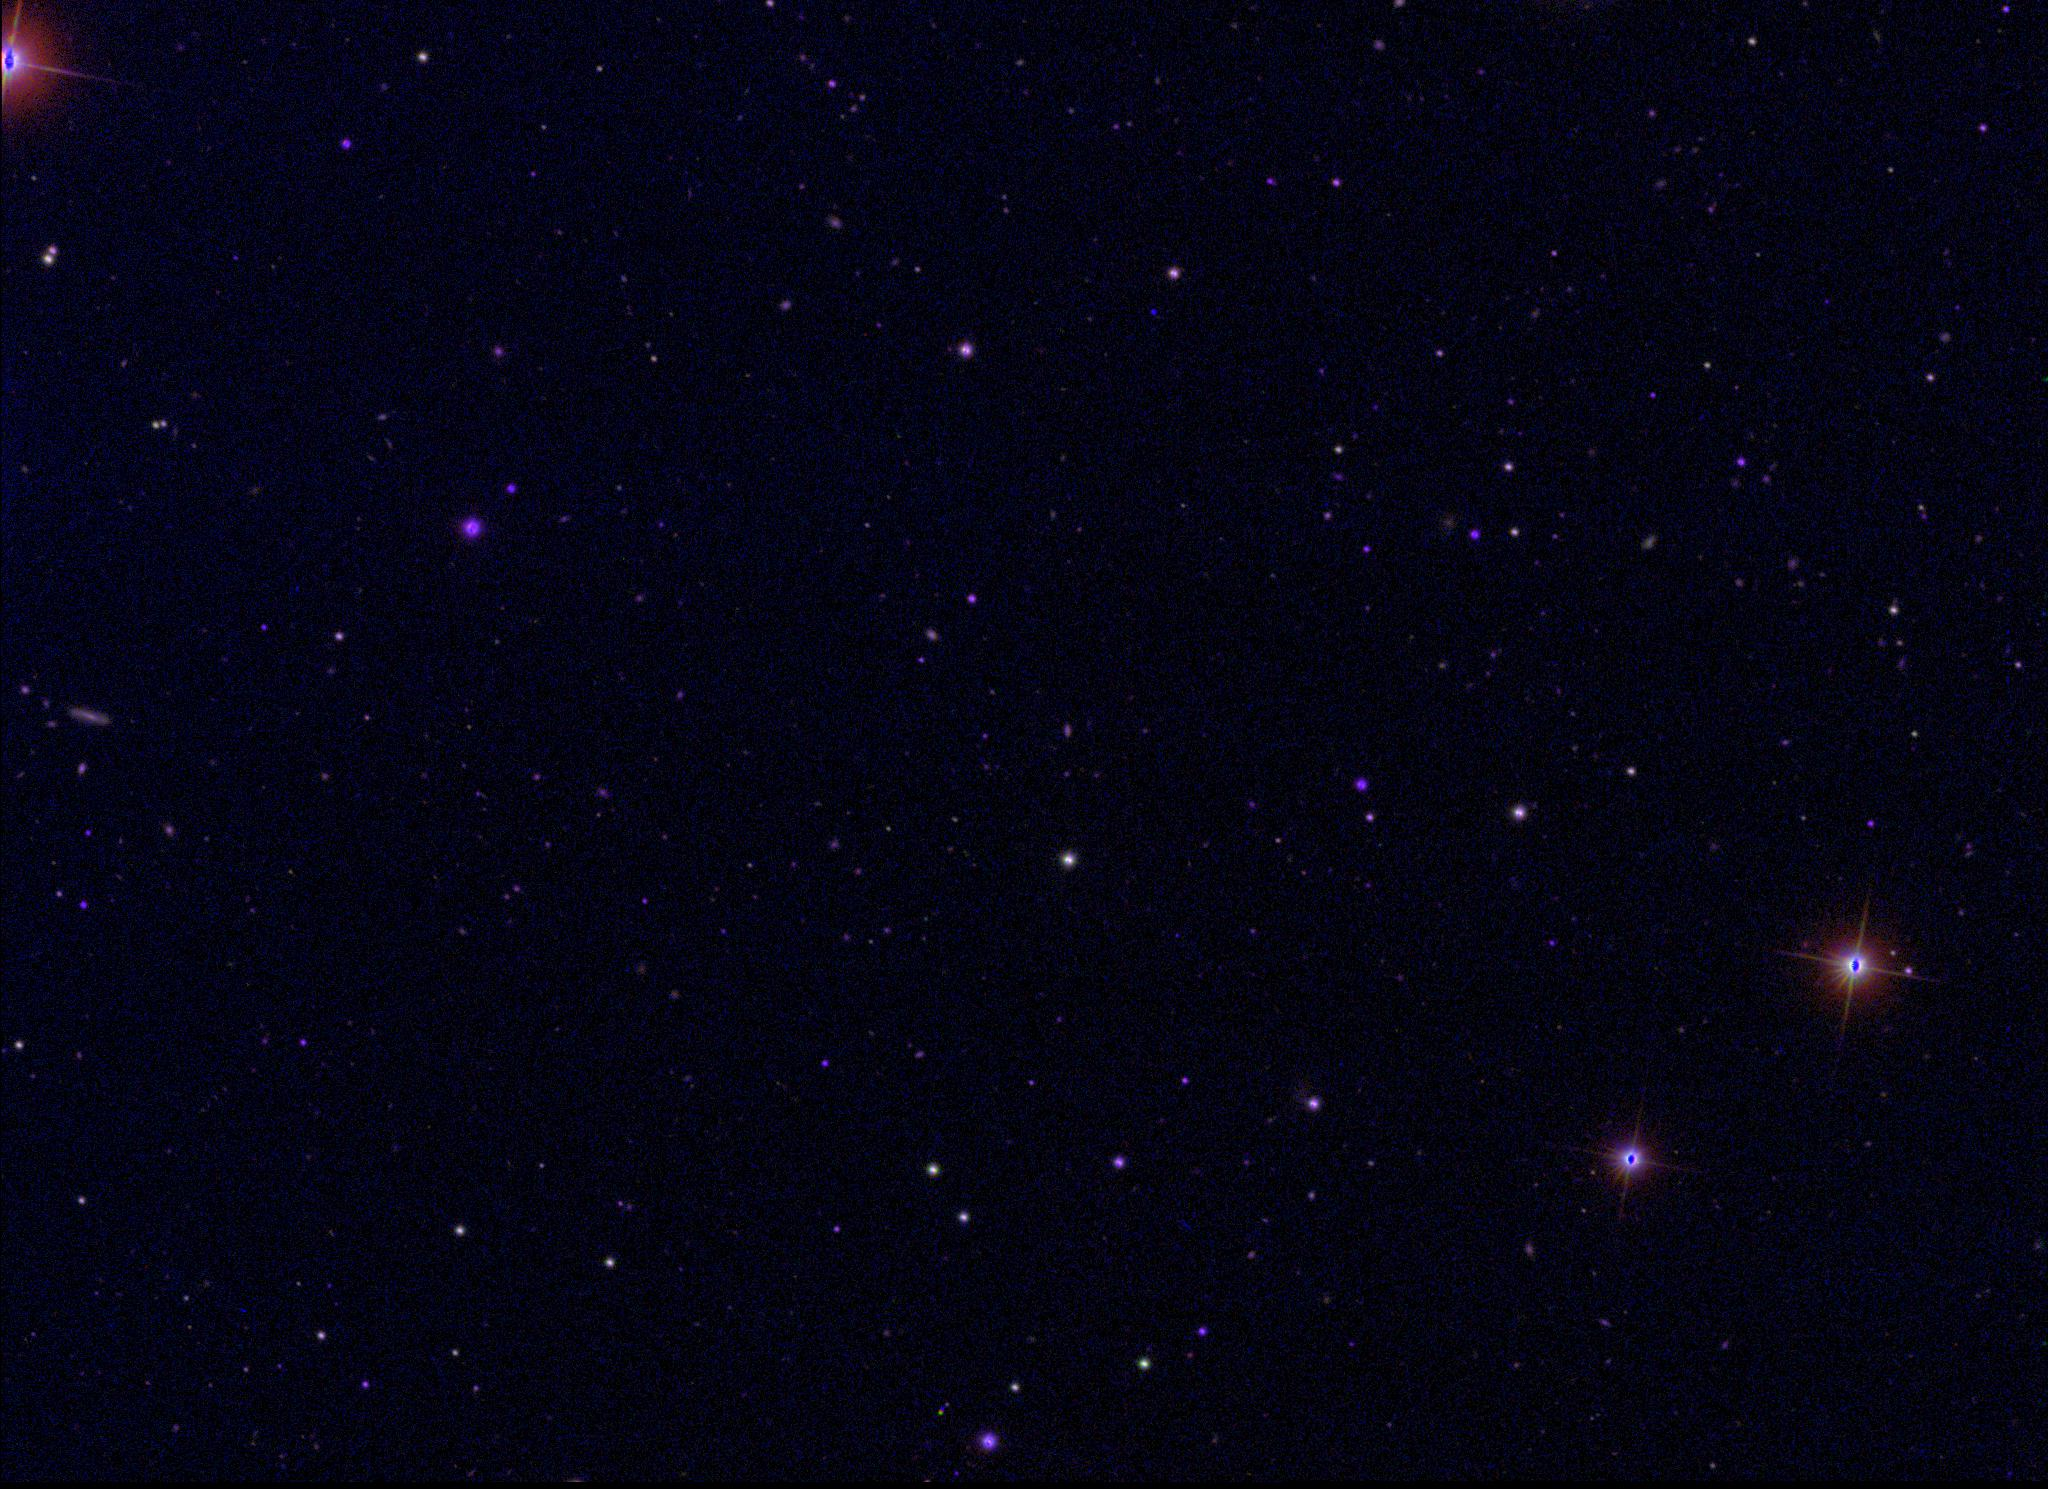L: (1146, 305, 1161, 320)
